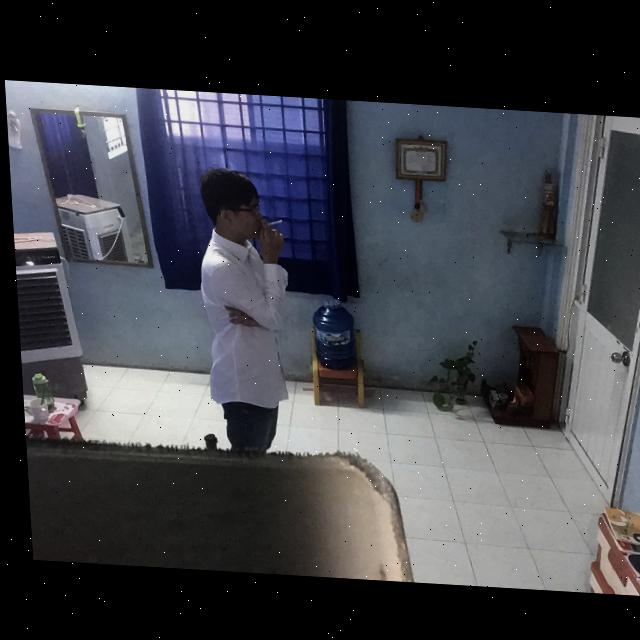cigarette: (264, 215, 281, 223)
